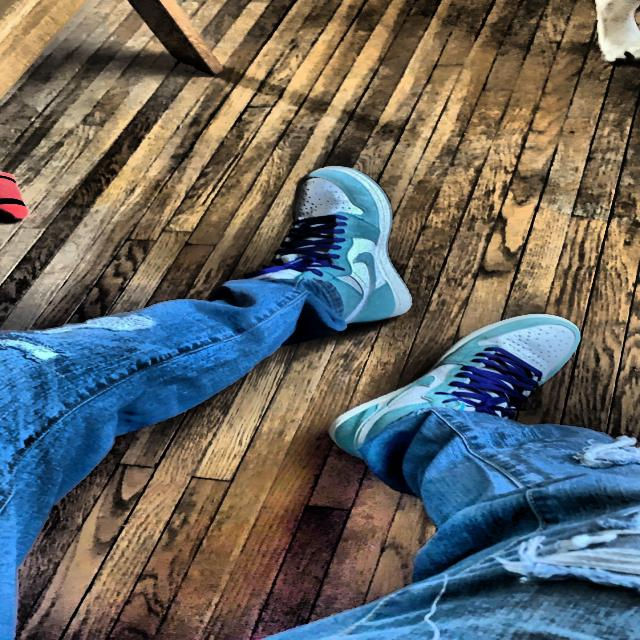Casual_Sneakers: (329, 314, 584, 456), (241, 164, 416, 328)
